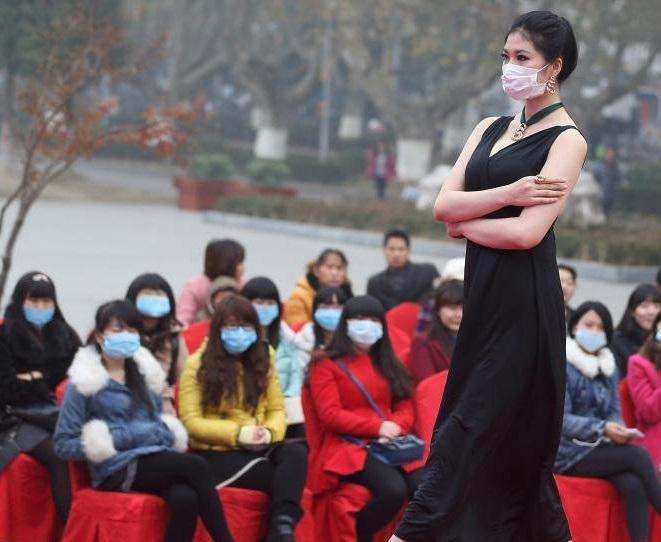NONE: (440, 299, 468, 332), (319, 255, 346, 289), (634, 297, 661, 331), (386, 238, 410, 266), (556, 273, 576, 301), (231, 252, 247, 281)
OK: (500, 36, 560, 96), (350, 308, 387, 350), (220, 312, 258, 352), (105, 322, 140, 361), (23, 290, 60, 326), (140, 281, 174, 317), (314, 296, 349, 330), (251, 294, 283, 326), (581, 319, 610, 350)
